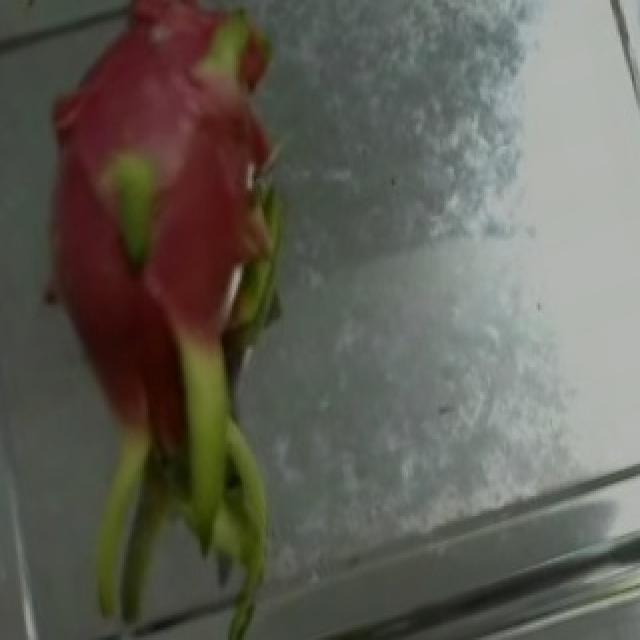fruit: (2, 225, 398, 638), (0, 0, 380, 419)
